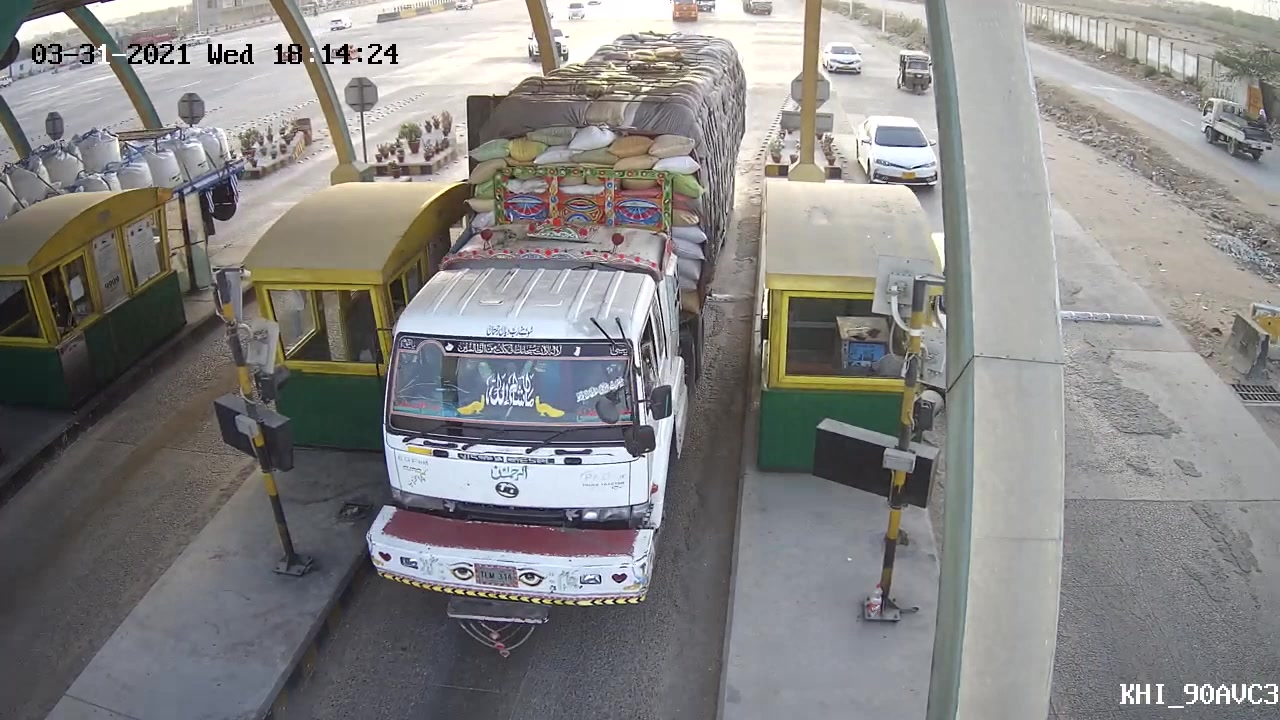F6: (356, 26, 750, 662)
